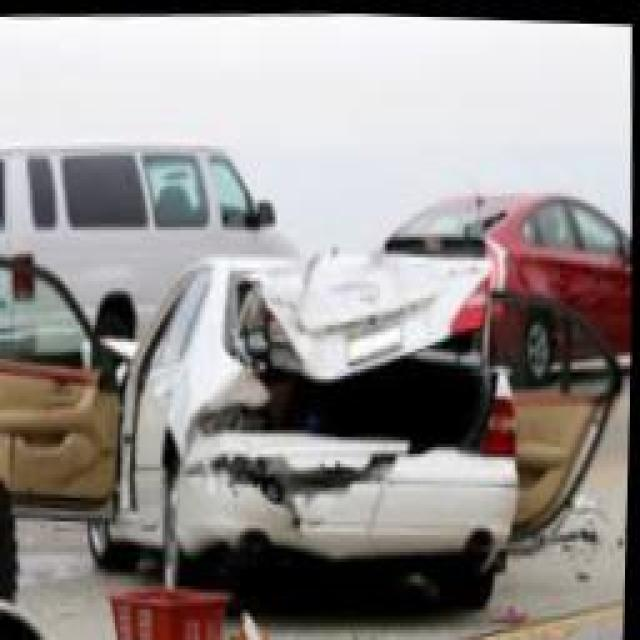Bumper: (177, 438, 521, 560)
Dickey: (203, 249, 502, 442)
Fender: (146, 360, 223, 450)
